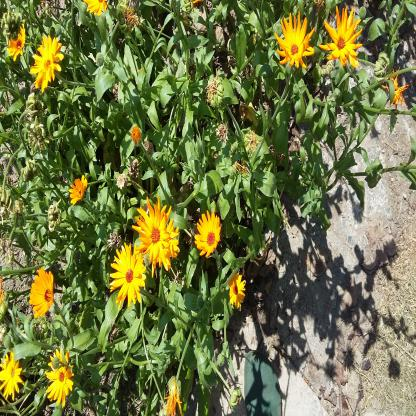marigold: (134, 195, 180, 271), (319, 5, 363, 70), (274, 10, 315, 70), (110, 241, 147, 307), (30, 35, 64, 92), (45, 349, 75, 407), (30, 267, 55, 319), (0, 350, 25, 400), (194, 210, 221, 256), (6, 22, 26, 61), (226, 271, 246, 309), (69, 174, 87, 206)
